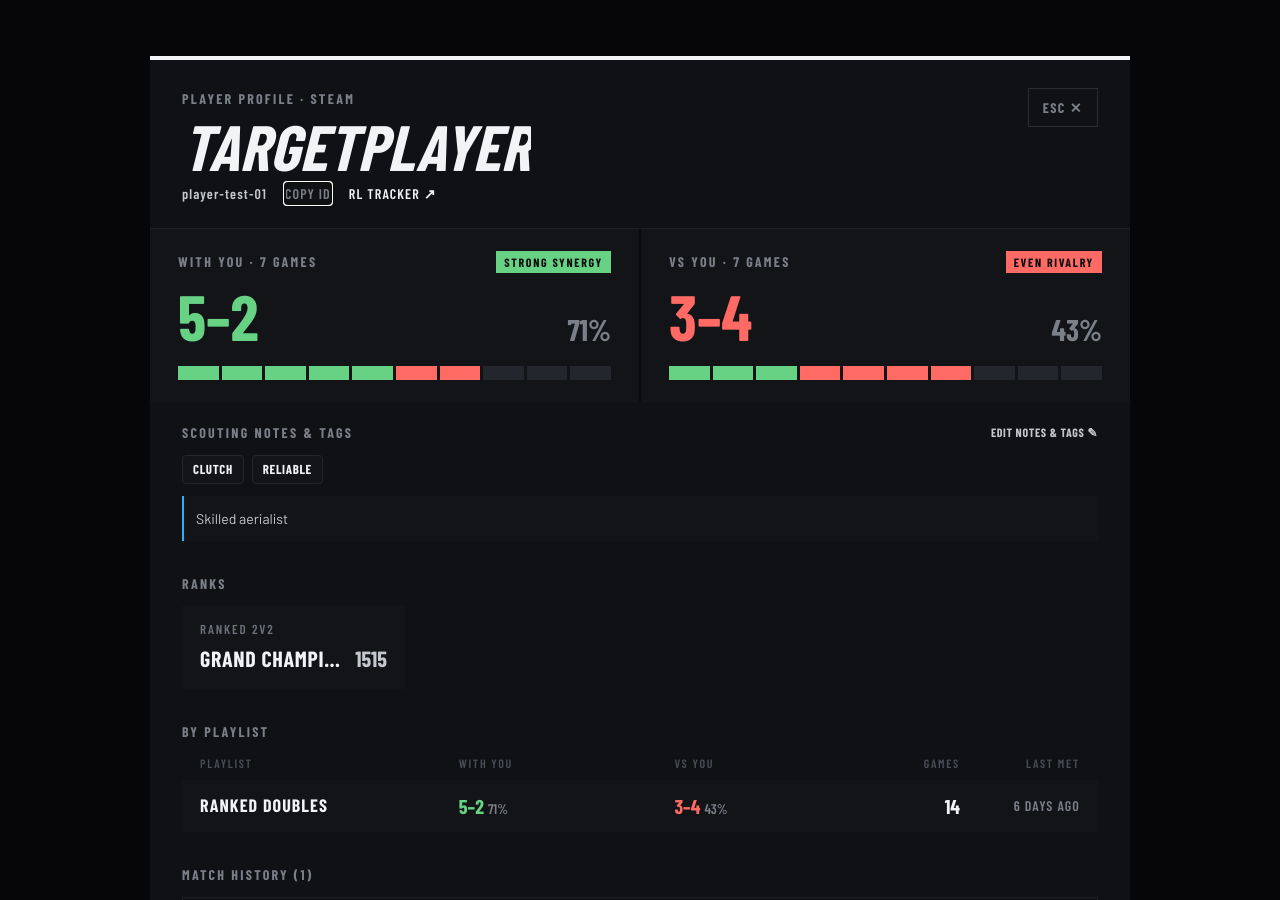
Test case: PlayerProfileDialog › toggles interactive filter cards (WITH YOU / VS YOU)
The width and height of the screenshot is (1280, 900).
Click the button with test id "h2h-with" at (211, 262), box [150,229,639,402]
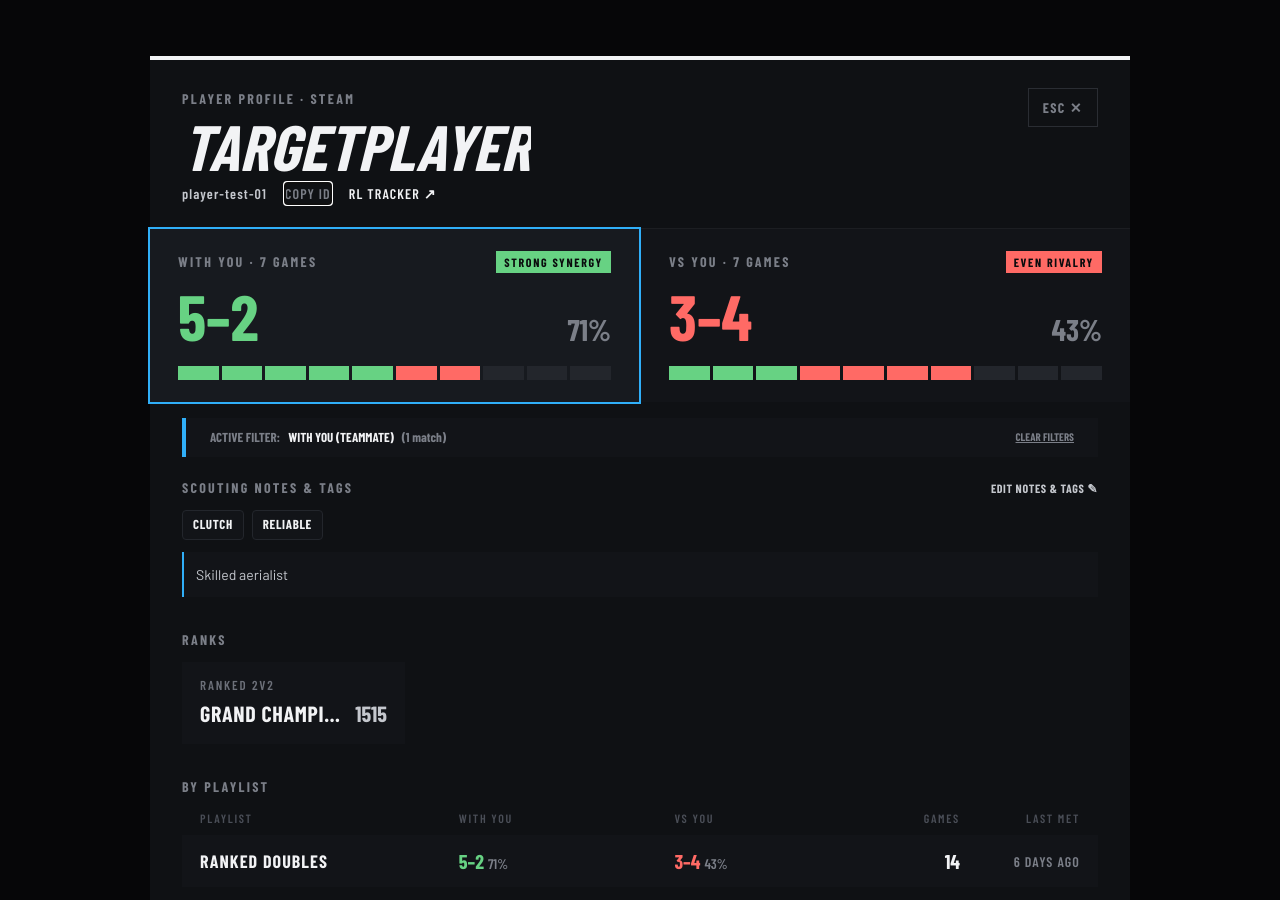
Expected: the text "WITH YOU (TEAMMATE)" is shown, [288,428,394,447]
